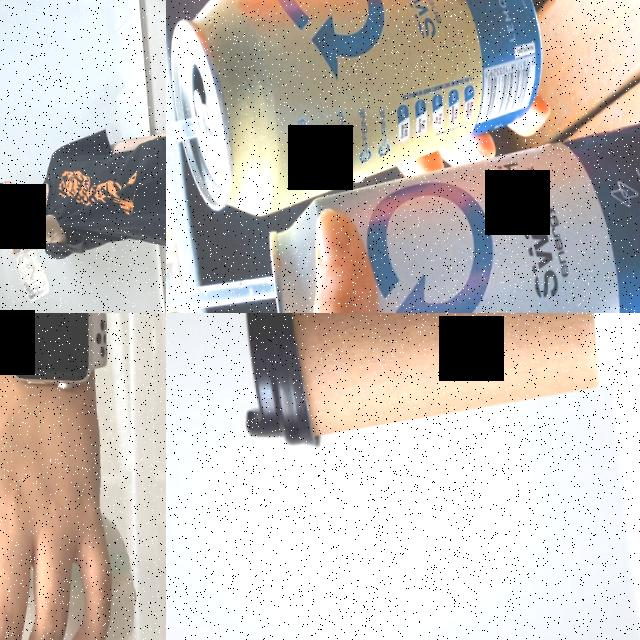bottle: (0, 188, 52, 302)
can: (166, 0, 557, 225), (258, 111, 640, 313)
cup: (229, 313, 640, 457), (0, 455, 146, 640)
